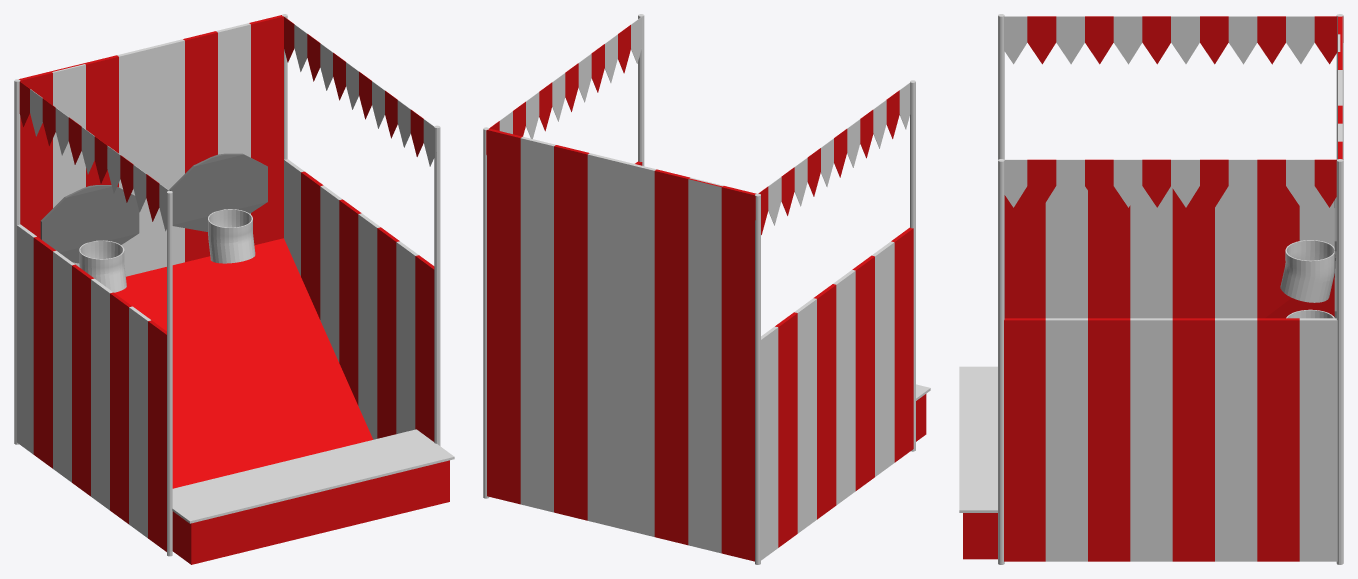
File: basketballstand.fbx
3 renders of one model, left to right at view 1: azimuth 30°, elevation 25°; view 2: azimuth 150°, elevation 25°; view 3: azimuth 270°, elevation 25°, orthographic. The views are drawn at different scales.
Visible parts, largest first — view 1: Cube.002, Cube.006, Cube.003, Cube.004, Cube.001, Cube, Cube.007, Cube.005, Cylinder.005, Cylinder.001, Cylinder, Cylinder.004 (+1 smaller); view 2: Cube.002, Cube.003, Cylinder.002, Cylinder, Cylinder.003, Cylinder.001; view 3: Cube.004, Cube.003, Cube, Cylinder.003, Cylinder.004, Cylinder.001, Cube.001, Cube.020, Cube.024, Cube.027, Cube.032, Cube.039 (+23 smaller).
Part boxes in pixels (<box>): Cube.002: <box>19,15,283,276</box>; Cube.006: <box>114,238,373,488</box>; Cube.003: <box>16,224,166,551</box>; Cube.004: <box>284,159,434,441</box>; Cube.001: <box>172,460,449,564</box>; Cube: <box>172,429,454,523</box>; Cube.007: <box>169,153,267,231</box>; Cube.005: <box>40,185,139,263</box>; Cylinder.005: <box>208,209,255,263</box>; Cylinder.001: <box>434,125,440,445</box>; Cylinder: <box>167,191,172,556</box>; Cylinder.004: <box>79,240,126,292</box>; Cube.002: <box>487,128,756,561</box>; Cube.003: <box>761,227,913,560</box>; Cylinder.002: <box>755,193,760,564</box>; Cylinder: <box>910,80,915,451</box>; Cylinder.003: <box>483,127,489,498</box>; Cylinder.001: <box>638,14,644,165</box>; Cube.004: <box>1004,318,1337,561</box>; Cube.003: <box>1004,186,1334,318</box>; Cube: <box>959,366,997,512</box>; Cylinder.003: <box>1336,159,1343,564</box>; Cylinder.004: <box>1280,240,1334,302</box>; Cylinder.001: <box>998,159,1004,564</box>; Cube.001: <box>963,513,997,559</box>; Cube.020: <box>1228,159,1257,207</box>; Cube.024: <box>1027,159,1056,207</box>; Cube.027: <box>1113,159,1142,207</box>; Cube.032: <box>1228,16,1257,64</box>; Cube.039: <box>1113,16,1142,64</box>.
Bounding box in the file's own units: 280 × 356 × 307.
